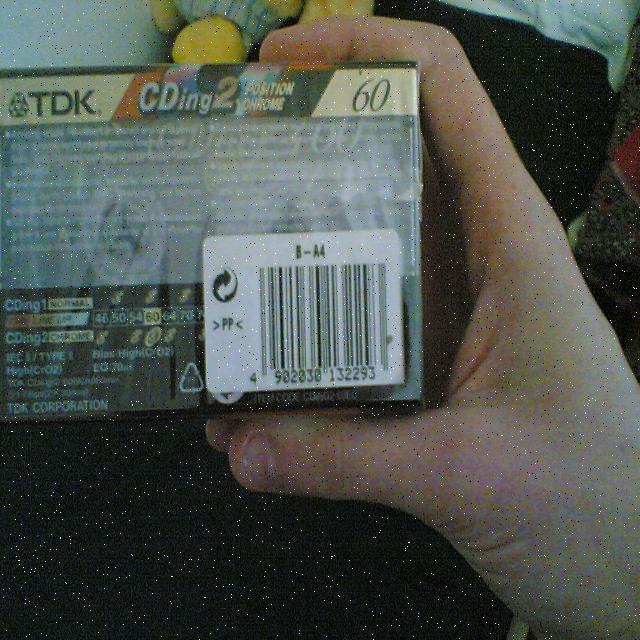barcode: (202, 230, 405, 401)
